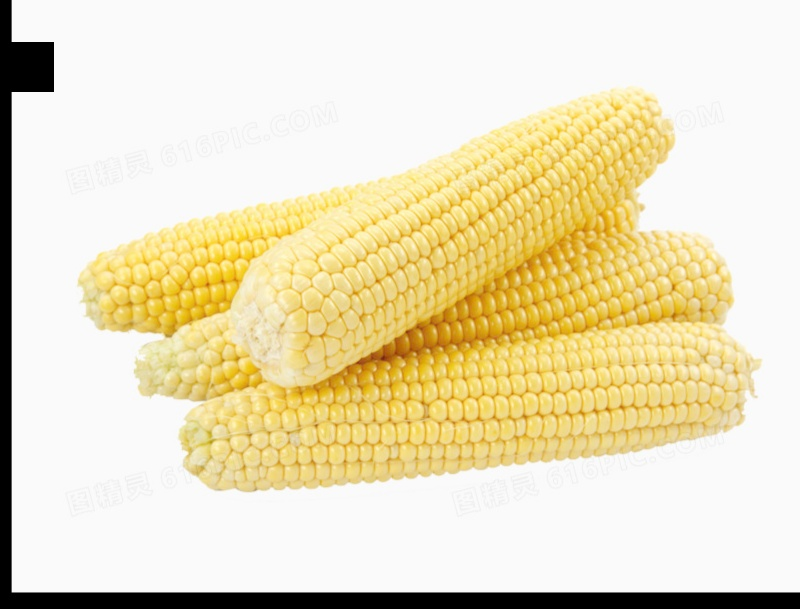corn: (254, 91, 664, 372), (72, 132, 647, 332), (136, 226, 734, 399), (199, 319, 754, 493)
